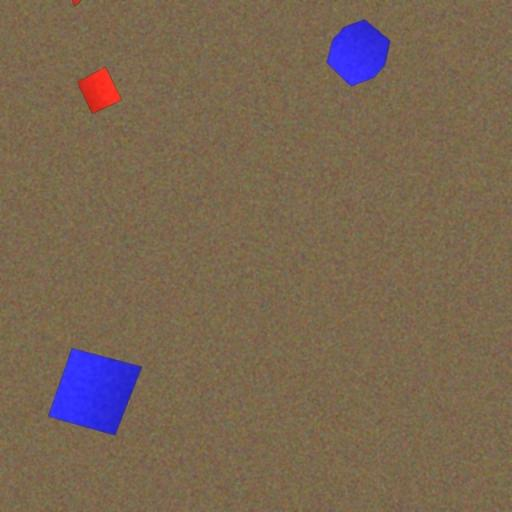BLUE_SQUARE: (48, 348, 142, 436)
RED_SQUARE: (77, 66, 122, 114)
